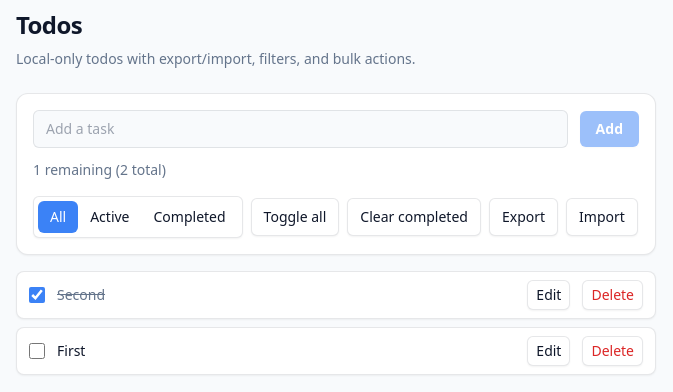
Test case: inline edit: Escape cancels
Click the button with aria-label "edit todo: first": coordinates (549, 351) [527,336,570,366]
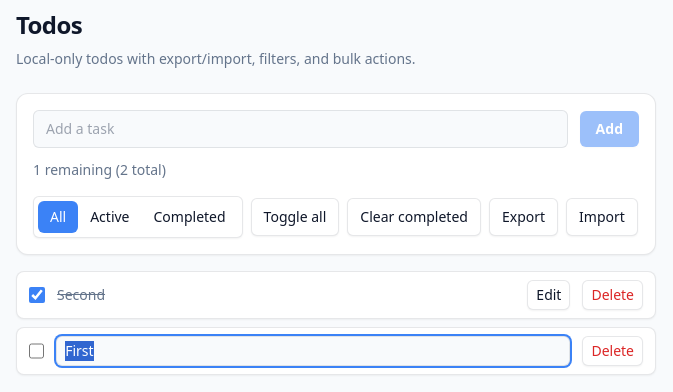
Replace the text in the field named "edit todo title" with "Updated": coordinates (313, 351) [56,336,570,366]
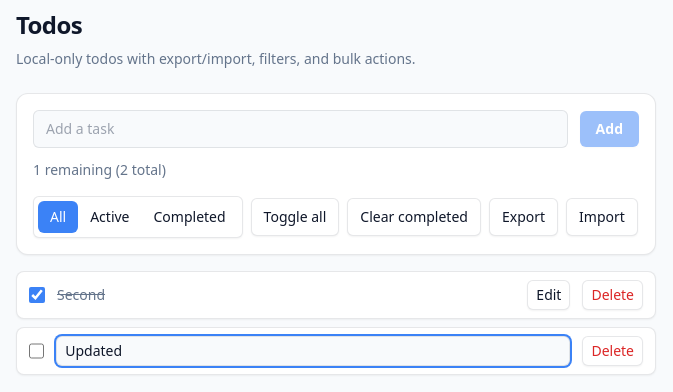
Press Escape in the field named "edit todo title", box [56,336,570,366]
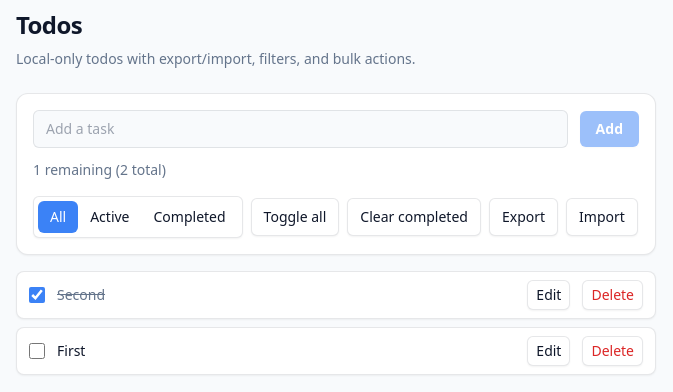
Expected: the text "Updated" is not shown
Now the text "First" is shown, box [57,341,85,361]
